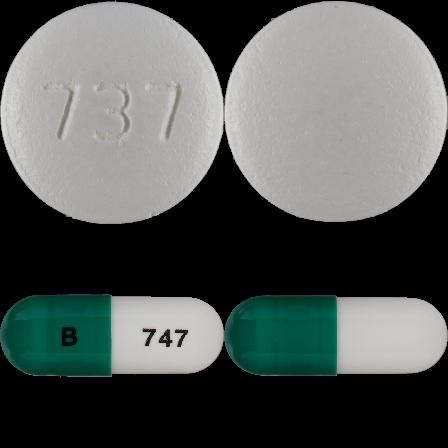64725-0737: (0, 0, 224, 224)
